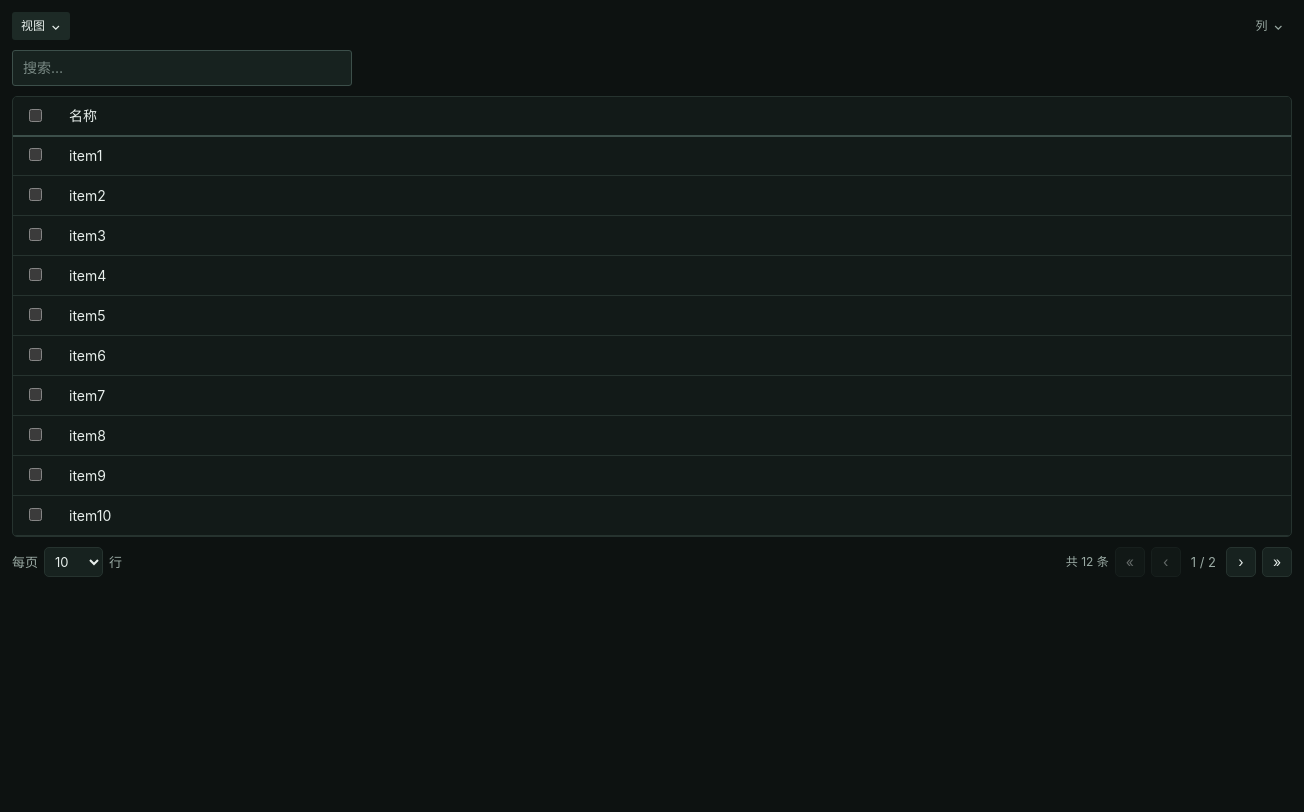
Scenario: DataTable client mode › paginates beyond the page size
Expected: the text "共 12 条" is shown, 1066,554 -> 1109,571
Expected: the text "1 / 2" is shown, 1191,554 -> 1216,570
Click the button "›" at [1241, 562], box 1226,547 -> 1256,577
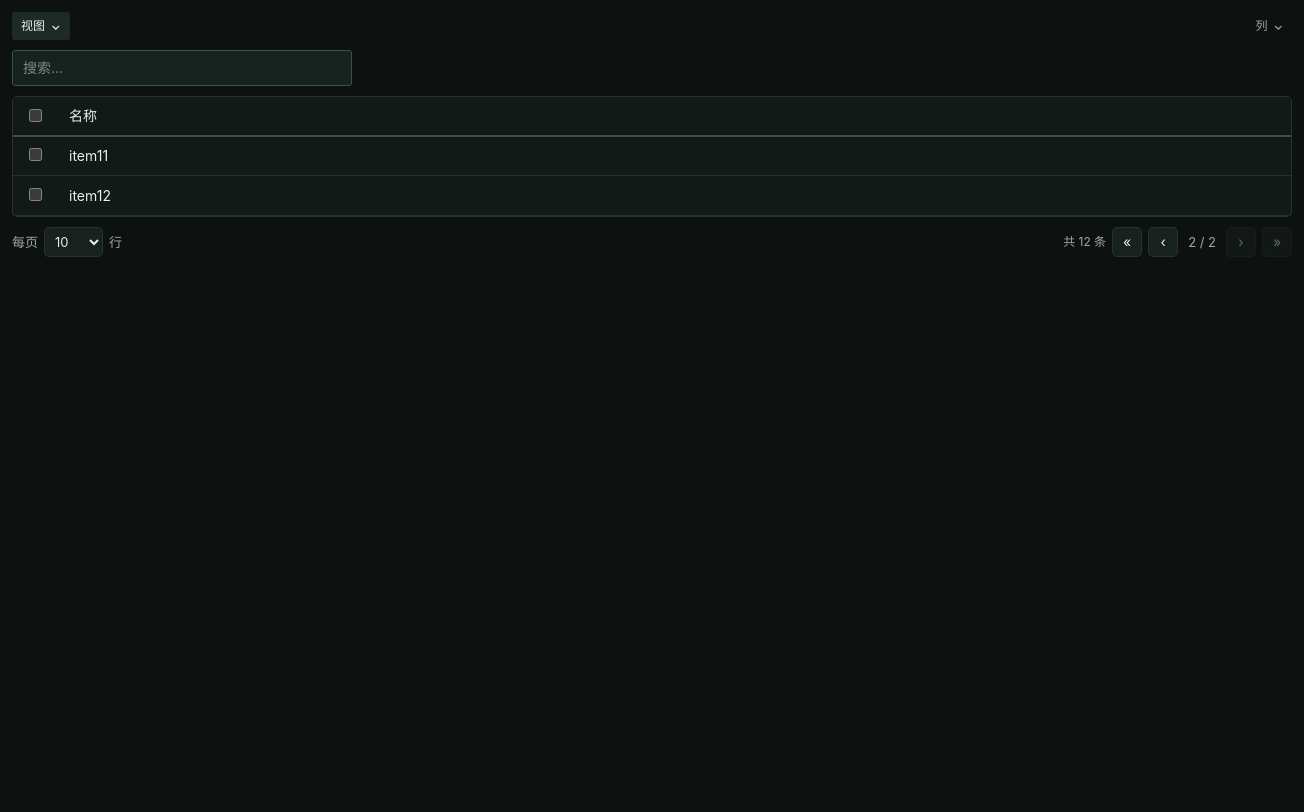
Expected: the text "2 / 2" is shown, 1188,234 -> 1216,250
Expected: the text "item11" is shown, 57,136 -> 1291,176
